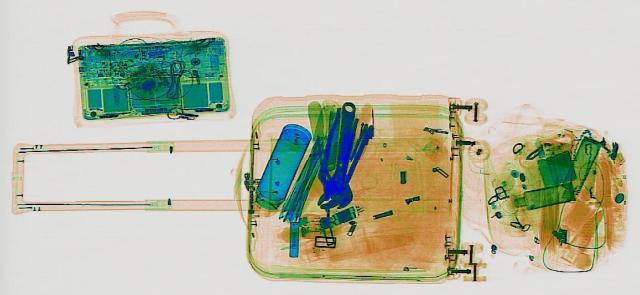Wrench: (320, 100, 360, 207)
